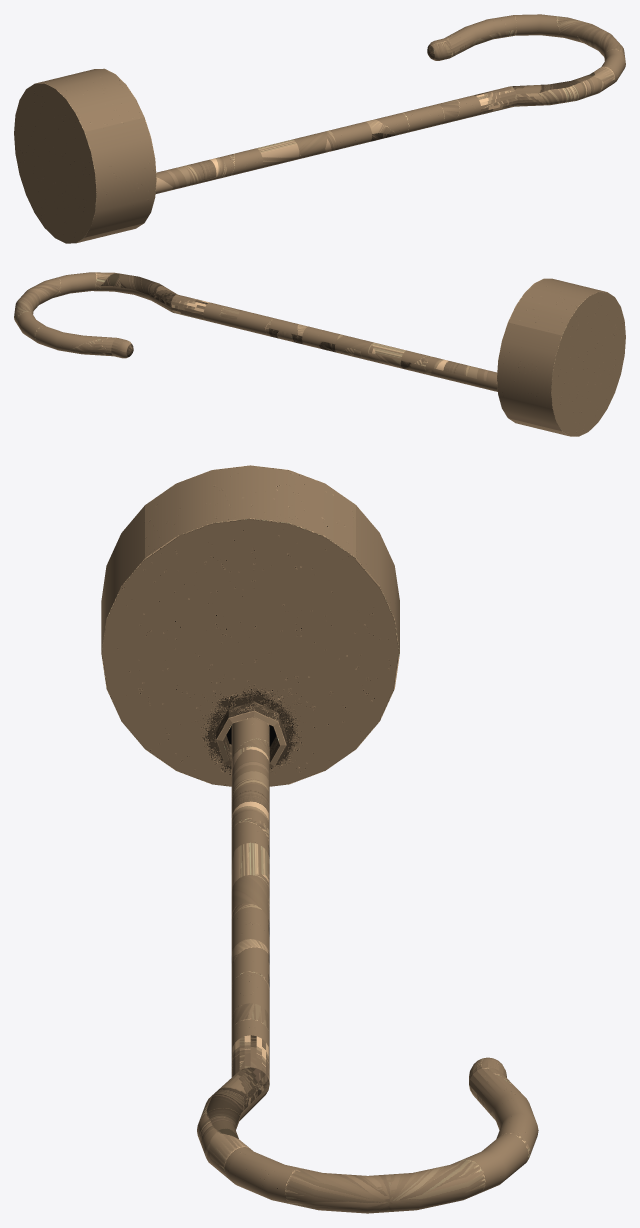
Rendered from parentedCrank.fbx.
3 views of the same model, one above another, from view 1: azimuth 30°, elevation 25°; view 2: azimuth 150°, elevation 25°; view 3: azimuth 270°, elevation 25° (orthographic). The views are drawn at different scales.
Parts seen in each view (by area): view 1: pCube2, Cayado_exportado:Baston_completo; view 2: pCube2, Cayado_exportado:Baston_completo; view 3: pCube2, Cayado_exportado:Baston_completo.
Boxes of the visible parts, x1,y1,x2,y2 form: pCube2: (14, 68, 156, 243); Cayado_exportado:Baston_completo: (155, 14, 625, 193); pCube2: (497, 278, 625, 436); Cayado_exportado:Baston_completo: (14, 272, 497, 391); pCube2: (101, 465, 399, 786); Cayado_exportado:Baston_completo: (197, 717, 538, 1213).
Size of the model in its own units: 4.77 by 1.15 by 1.69.
2 materials, 2 textured.
